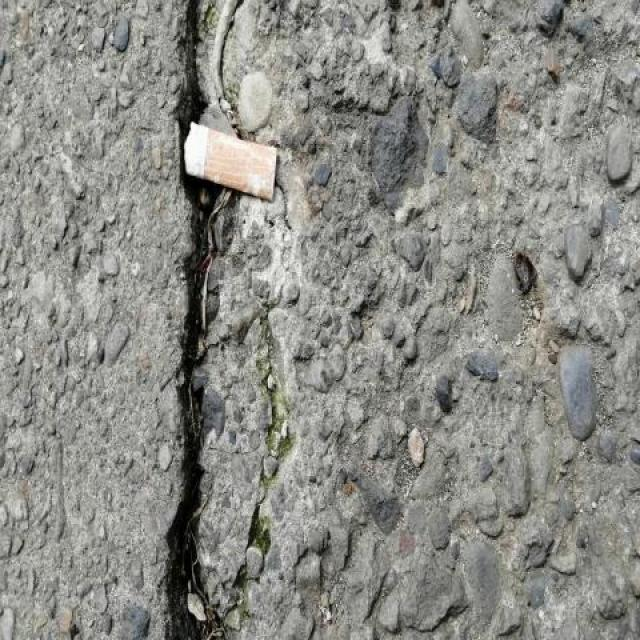non-organic waste: (178, 116, 282, 201)
